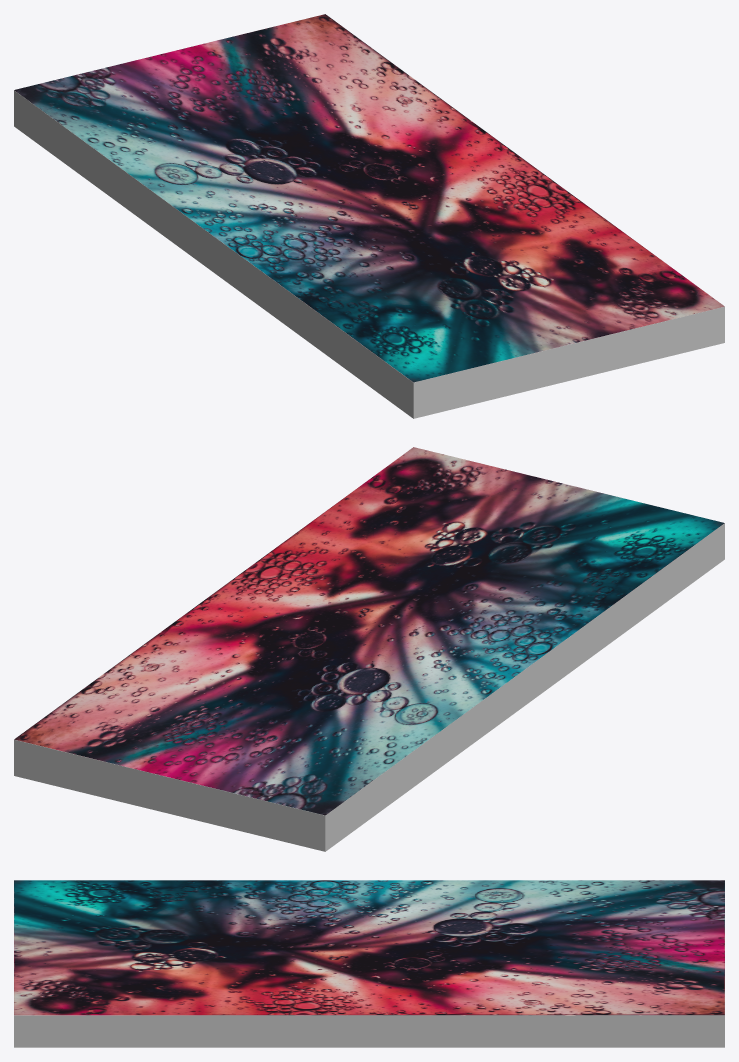
Rendered from screen5.glb.
3 renders of one model, top to bottom at view 1: azimuth 30°, elevation 25°; view 2: azimuth 150°, elevation 25°; view 3: azimuth 270°, elevation 25°, orthographic. The views are drawn at different scales.
Visible parts, largest first — view 1: Cube.003, Plane.025, Cube.054, Plane.008, Plane, Plane.039, Plane.011, Plane.017, Plane.016, Cube.006, Plane.057, Plane.009 (+60 smaller); view 2: Plane.025, Plane, Plane.008, Plane.011, Plane.039, Plane.017, Plane.016, Plane.057, Cube.006, Plane.024, Plane.009, Plane.020 (+61 smaller); view 3: Cube.004, Cube.024, Cube.048, Cube.011, Plane.025, Plane, Plane.008, Plane.011, Plane.039, Plane.017, Plane.024, Plane.016 (+54 smaller).
Part boxes in pixels (x1,y1,x2,y2): Cube.003: (393,362,498,418); Plane.025: (485,297,592,350); Cube.054: (586,317,681,376); Plane.008: (344,198,463,267); Plane: (283,14,355,93); Plane.039: (232,78,334,124); Plane.011: (375,89,480,143); Plane.017: (362,139,454,191); Plane.016: (421,144,504,202); Cube.006: (302,301,378,393); Plane.057: (187,39,252,104); Plane.009: (202,143,343,198); Plane.025: (461,481,593,535); Plane: (14,701,179,749); Plane.008: (377,572,478,640); Plane.011: (117,625,229,674); Plane.039: (153,682,245,735); Plane.017: (213,615,334,652); Plane.016: (215,589,329,626); Plane.057: (117,728,246,770); Cube.006: (614,549,690,640); Plane.024: (200,547,308,603); Plane.009: (306,641,387,708); Plane.020: (450,507,530,575); Cube.004: (93,1015,255,1047); Cube.024: (256,1015,393,1047); Cube.048: (541,1015,671,1047); Cube.011: (448,1015,541,1047); Plane.025: (14,937,122,976); Plane: (582,978,724,1015); Plane.008: (213,938,380,966); Plane.011: (446,989,540,1015); Plane.039: (523,945,632,982); Plane.017: (359,954,446,999); Plane.024: (257,989,393,1015); Plane.016: (313,968,429,1008).
Bounding box in the file's own units: 18 × 2.01 × 40.
2 materials, 1 textured.
